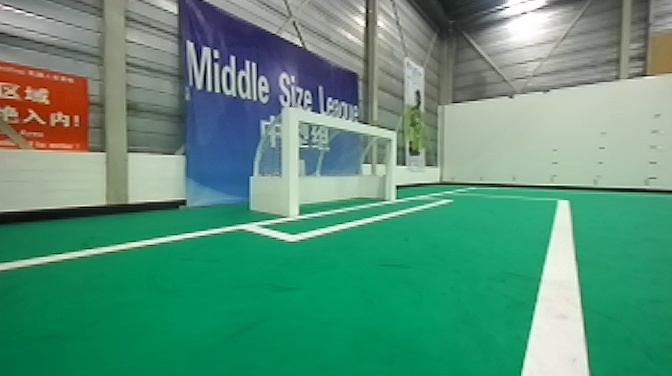goalpost: (274, 100, 303, 219), (383, 125, 401, 203)
